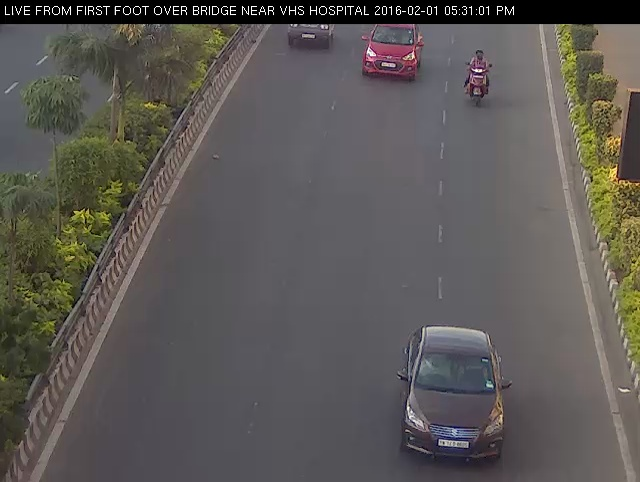Car: (384, 318, 520, 475), (347, 18, 438, 91), (275, 14, 344, 60)
Person: (457, 39, 500, 113)
